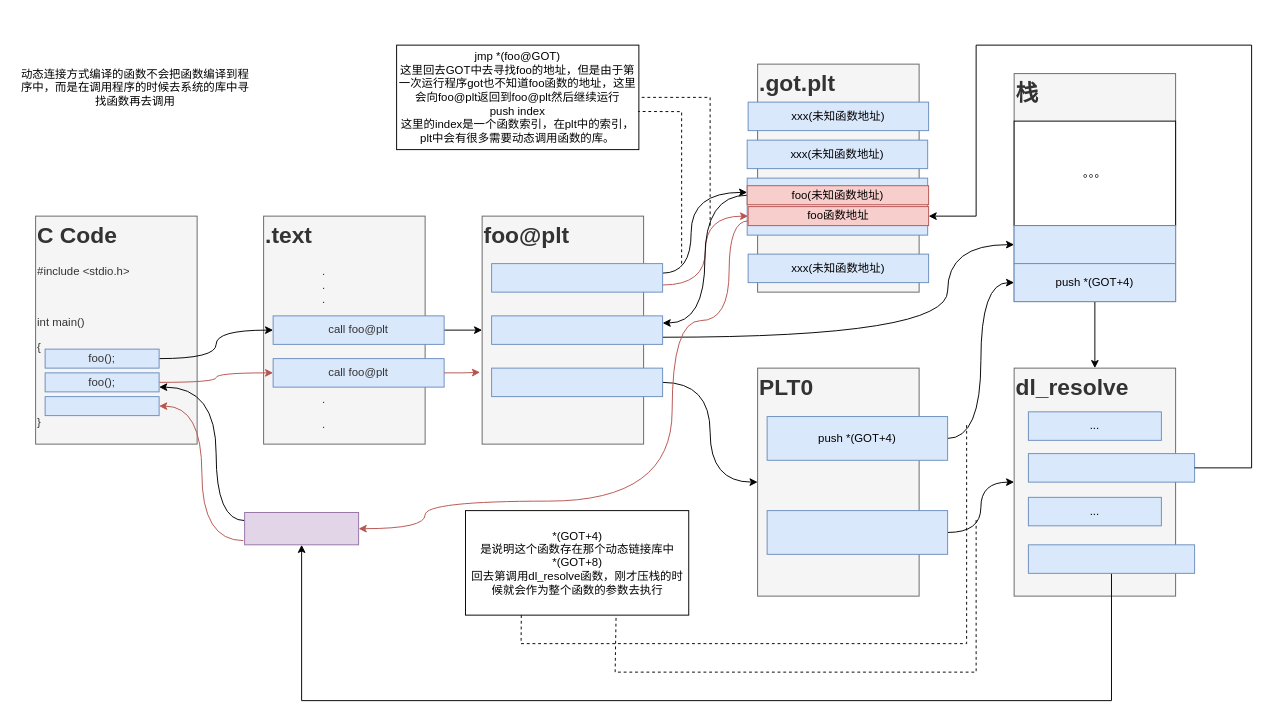
This 1276x725 diagram has some shape labels left out. Each missing label, with the centre of its shape:
call _fix_up: point (1111, 467)
foo()函数: point (301, 528)
jmp *(foo@GOT): point (577, 277)
JMP *(GOT+8): point (857, 532)
jmp PLT0: point (577, 382)
plt@index(foo): point (1094, 244)
push index: point (577, 329)
ret foo函数地址: point (1111, 558)
return 0;: point (101, 406)
